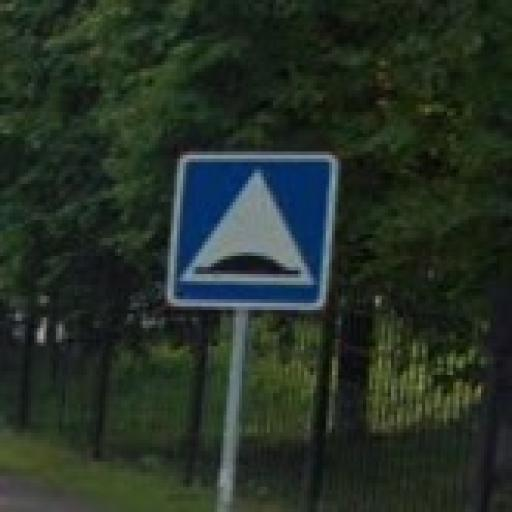traffic_sign: (169, 149, 343, 311)
